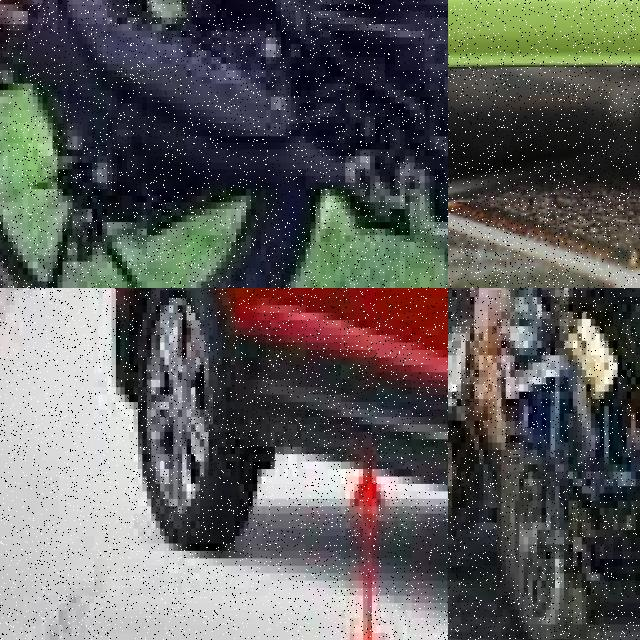bike: (0, 0, 448, 288), (478, 288, 640, 638), (448, 288, 479, 595)
car: (49, 288, 448, 610), (448, 0, 640, 227)
